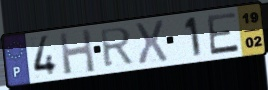1: (183, 15, 204, 59)
4: (31, 33, 59, 79)
E: (205, 11, 241, 58)
H: (57, 27, 98, 77)
R: (98, 26, 136, 70)
X: (132, 19, 170, 68)
